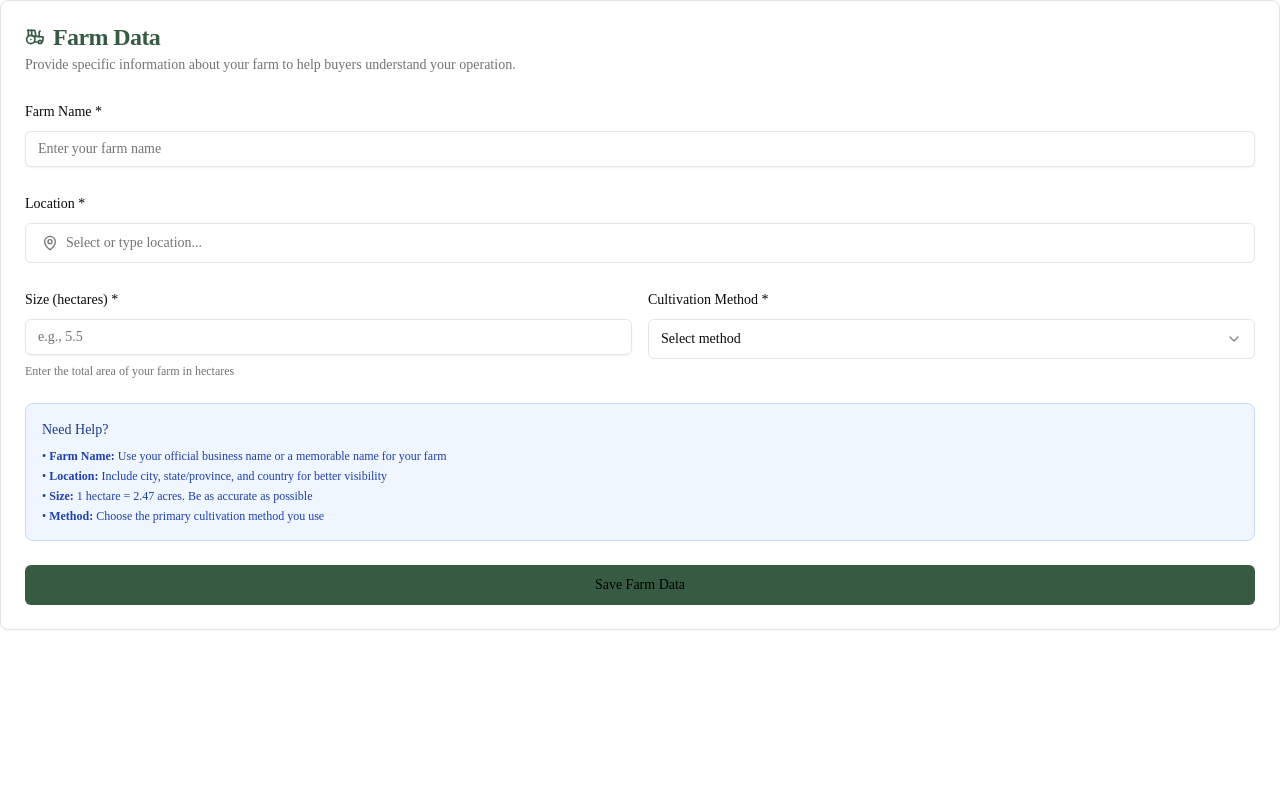
it: FarmDataSection › validates required fields
Click the button "Save Farm Data" at (640, 585), box x1=25 y1=565 x2=1255 y2=605
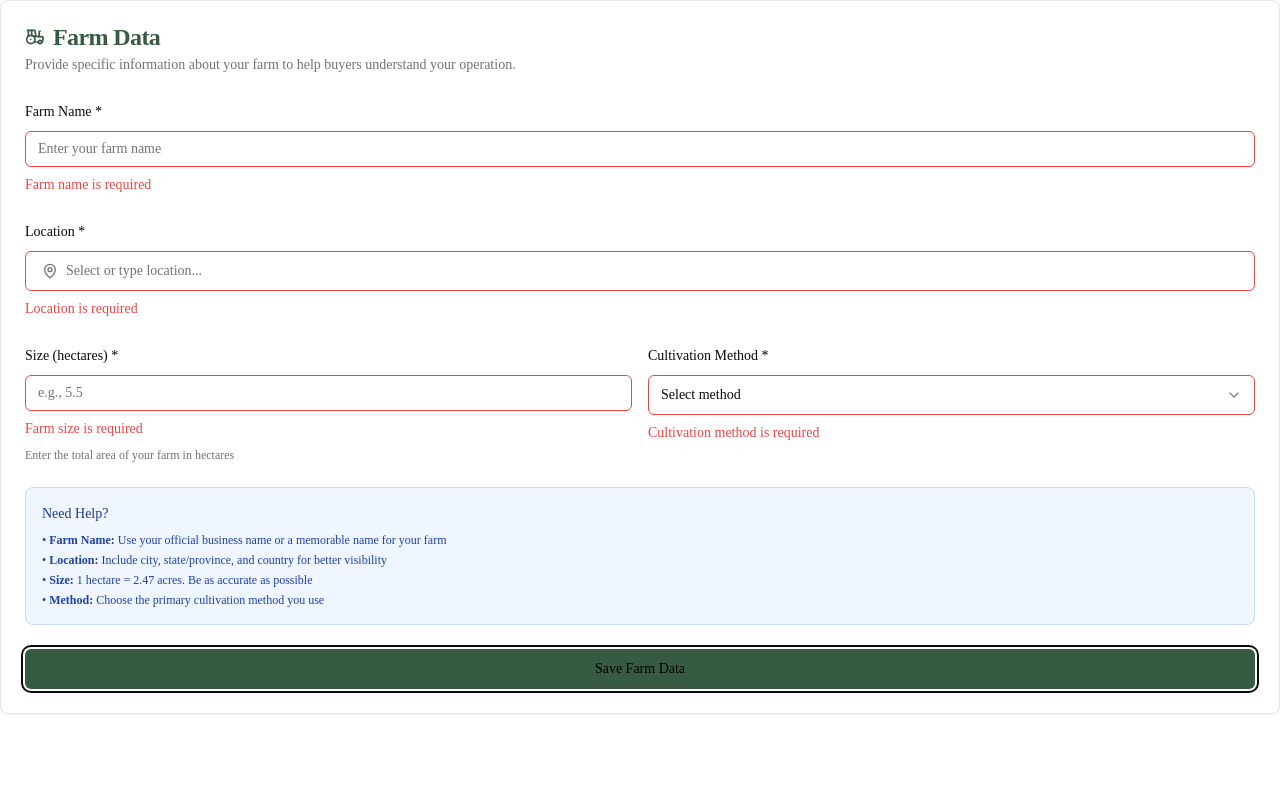
Check: the text "Farm name is required" is shown, box x1=25 y1=177 x2=151 y2=192
Check: the text "Location is required" is shown, box x1=25 y1=301 x2=138 y2=316
Check: the text "Farm size is required" is shown, box x1=25 y1=421 x2=143 y2=436
